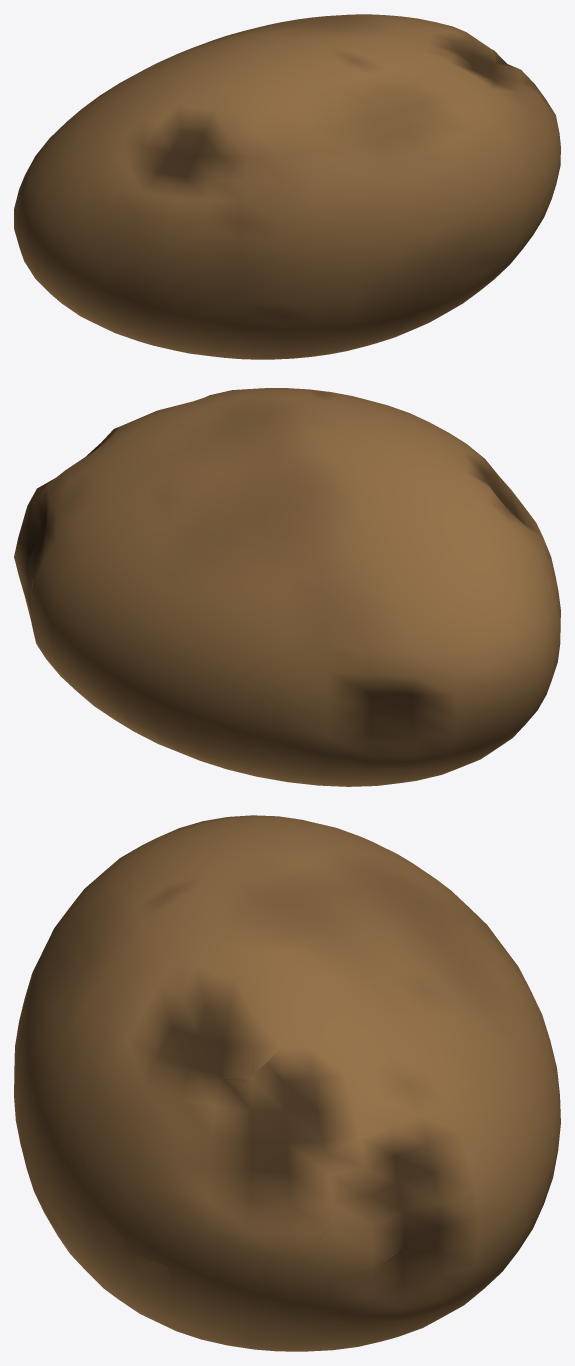
Rendered from potato_held.glb.
3 renders of one model, top to bottom at view 1: azimuth 30°, elevation 25°; view 2: azimuth 150°, elevation 25°; view 3: azimuth 270°, elevation 25°, orthographic. The views are drawn at different scales.
Visible parts, largest first — view 1: eat_0_Body, eat_1_Body, eat_2_Body; view 2: eat_0_Body, eat_1_Body, eat_2_Body; view 3: eat_0_Body, eat_1_Body, eat_2_Body.
Part boxes in pixels (x1=…): eat_0_Body: x1=14, y1=14, x2=560, y2=359; eat_1_Body: x1=14, y1=17, x2=554, y2=356; eat_2_Body: x1=148, y1=17, x2=543, y2=327; eat_0_Body: x1=14, y1=388, x2=560, y2=786; eat_1_Body: x1=15, y1=388, x2=560, y2=777; eat_2_Body: x1=18, y1=392, x2=253, y2=775; eat_0_Body: x1=14, y1=815, x2=560, y2=1351; eat_1_Body: x1=14, y1=815, x2=560, y2=1351; eat_2_Body: x1=60, y1=940, x2=535, y2=1302.
Bounding box in the file's own units: 0.1086 × 0.0647 × 0.0755.
